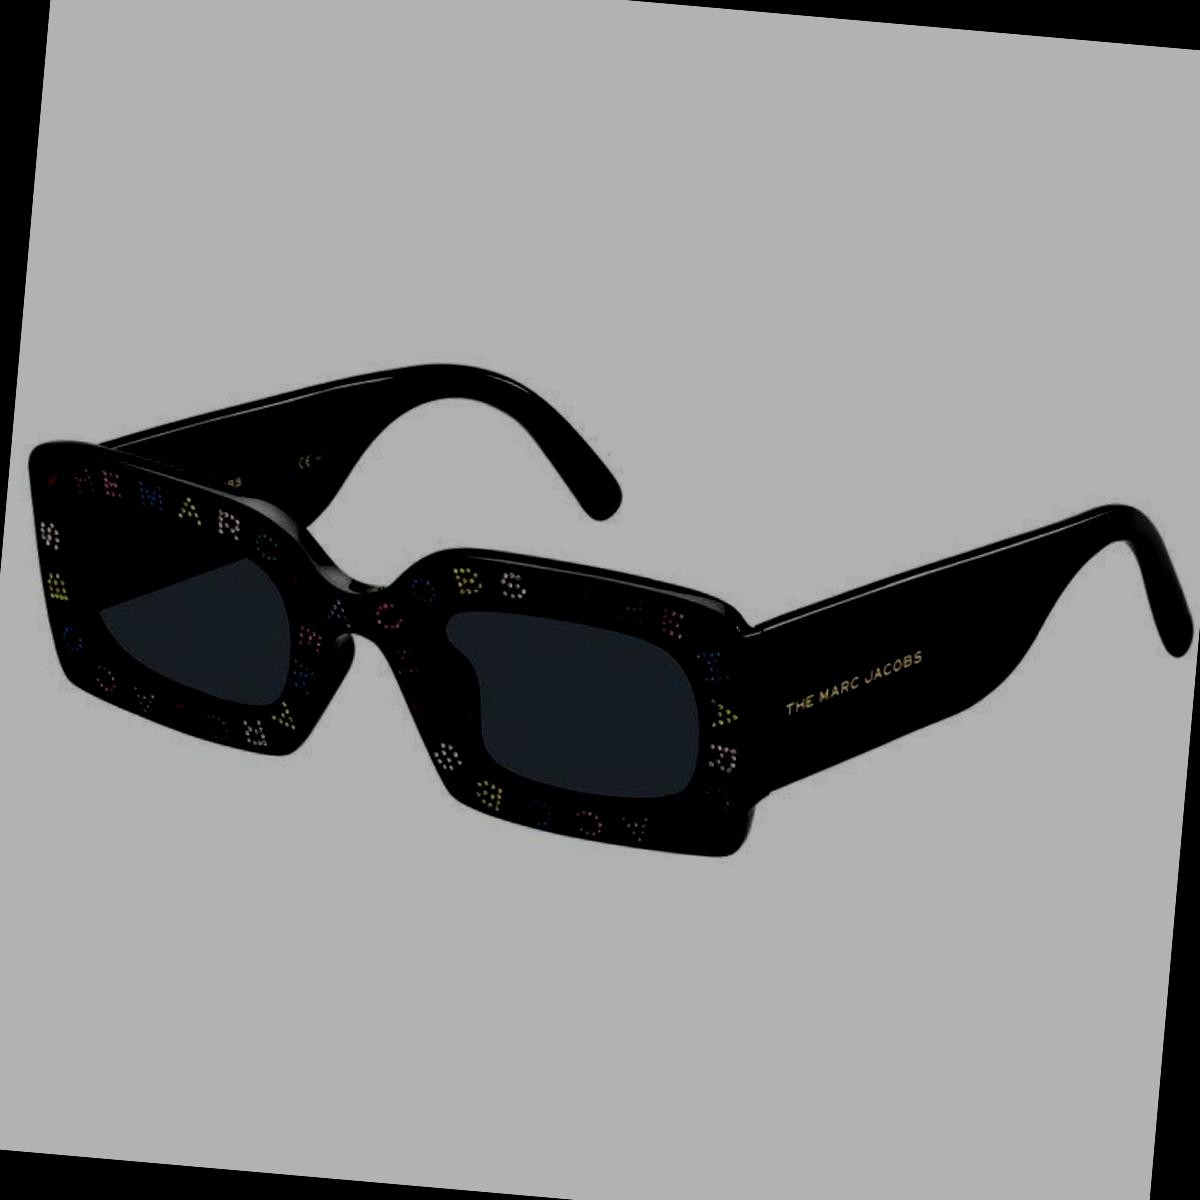MARC-JACOBS: (818, 640, 926, 712)
